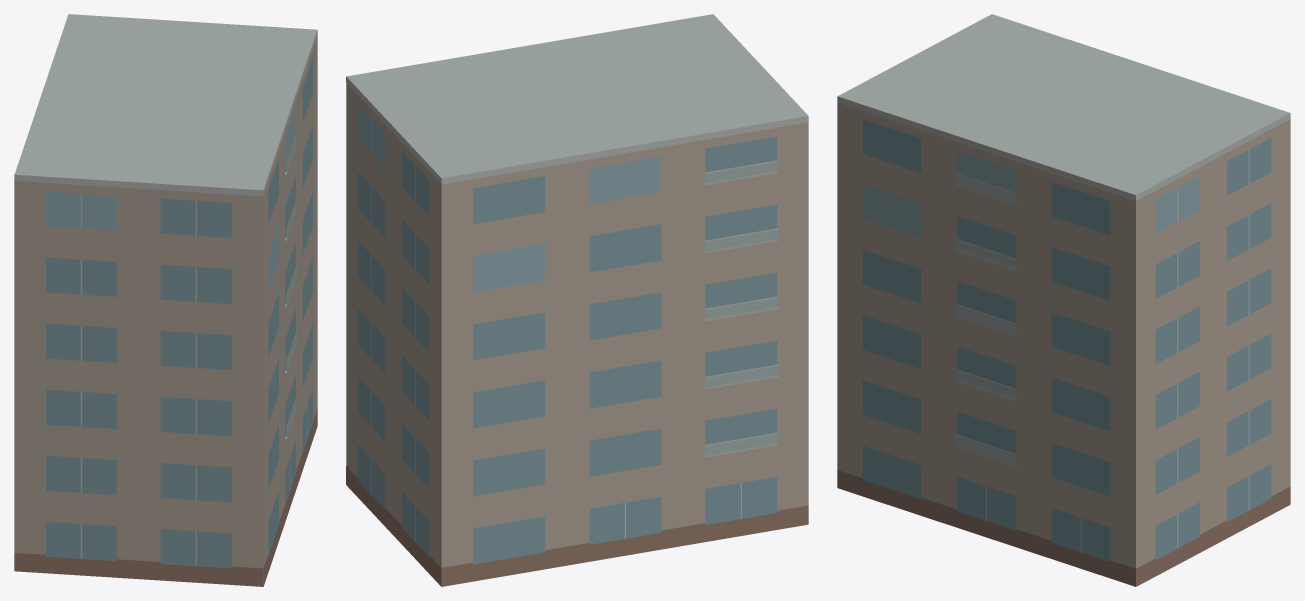
The model's file is survey-upis-32889223.glb.
The picture shows the model from 3 angles, left to right: view 1: azimuth 30°, elevation 25°; view 2: azimuth 150°, elevation 25°; view 3: azimuth 270°, elevation 25°; orthographic projection. The views are drawn at different scales.
Visible parts, largest first — view 1: survey-upis-32889223.tmp; view 2: survey-upis-32889223.tmp; view 3: survey-upis-32889223.tmp.
Part boxes in pixels (x1,y1,x2,y2): survey-upis-32889223.tmp: [14, 14, 317, 586]; survey-upis-32889223.tmp: [346, 14, 808, 586]; survey-upis-32889223.tmp: [837, 14, 1290, 586].
Size of the model in its own units: 15.68 by 15.8 by 16.58.
